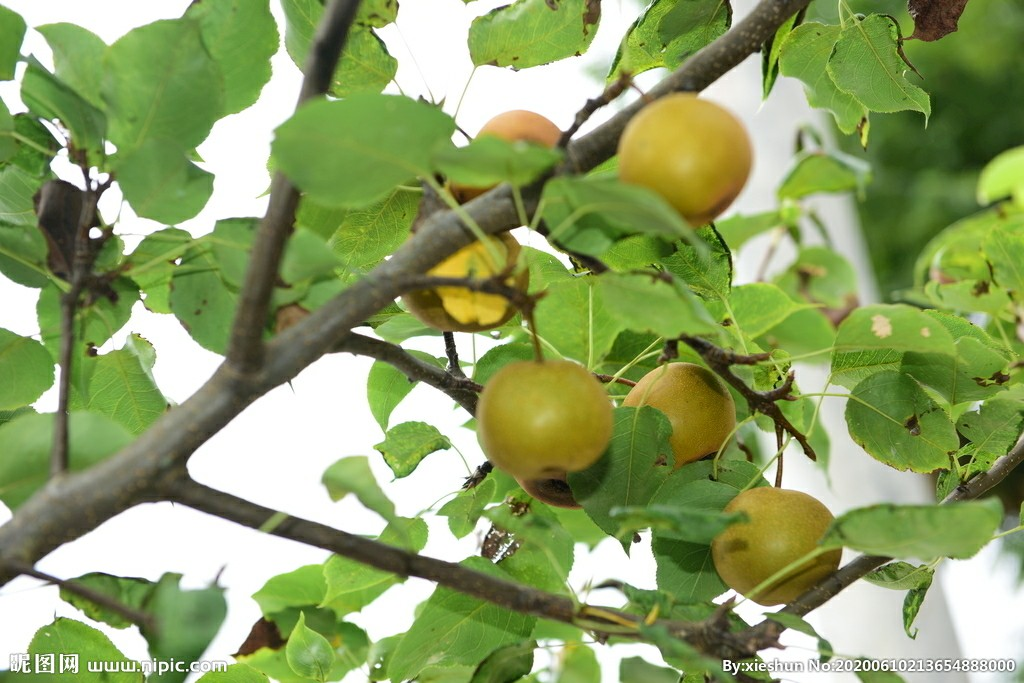pear: (620, 93, 753, 225), (711, 486, 845, 606), (480, 361, 609, 477), (620, 361, 737, 466)
